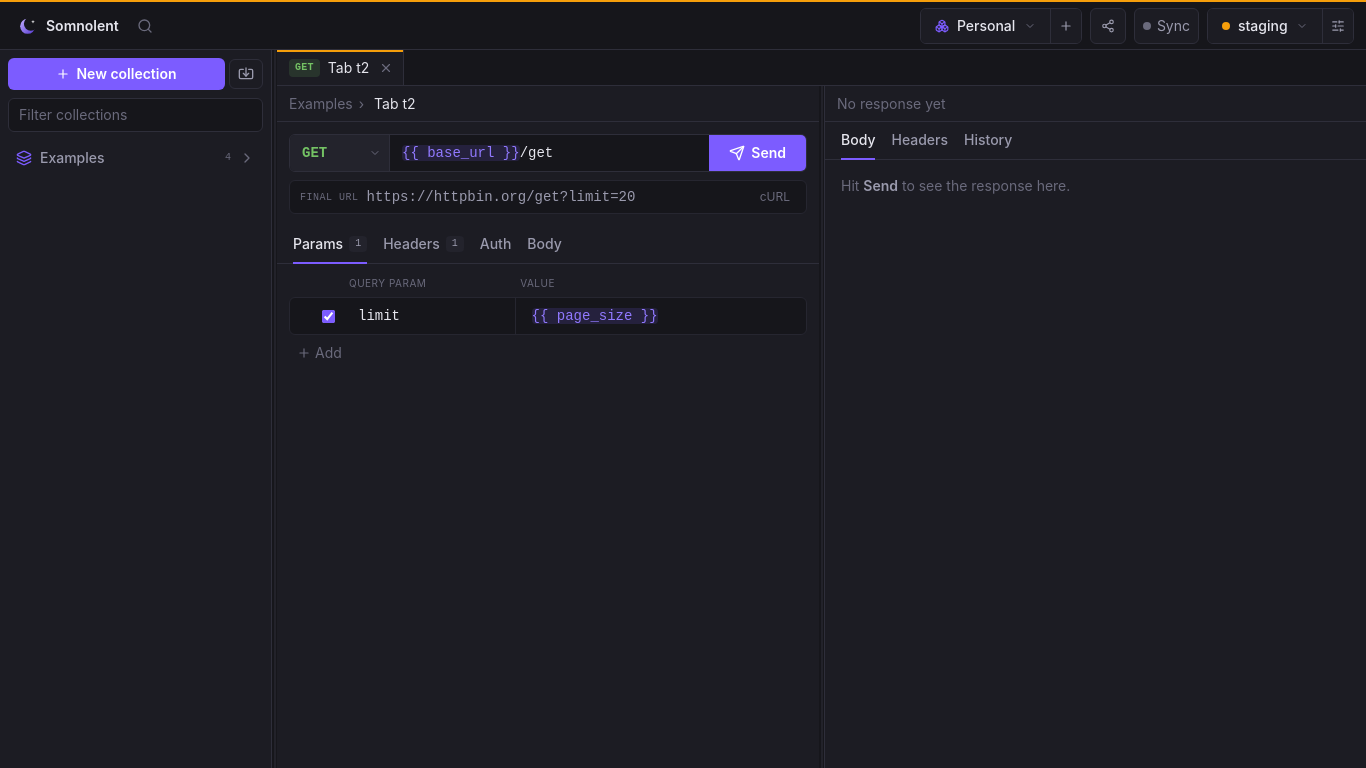
Test case: tab strip › with a single tab, the menu offers no "close others"
The image size is (1366, 768).
Right-click the tab "GET Tab t2" at (341, 68), box [277, 50, 404, 86]
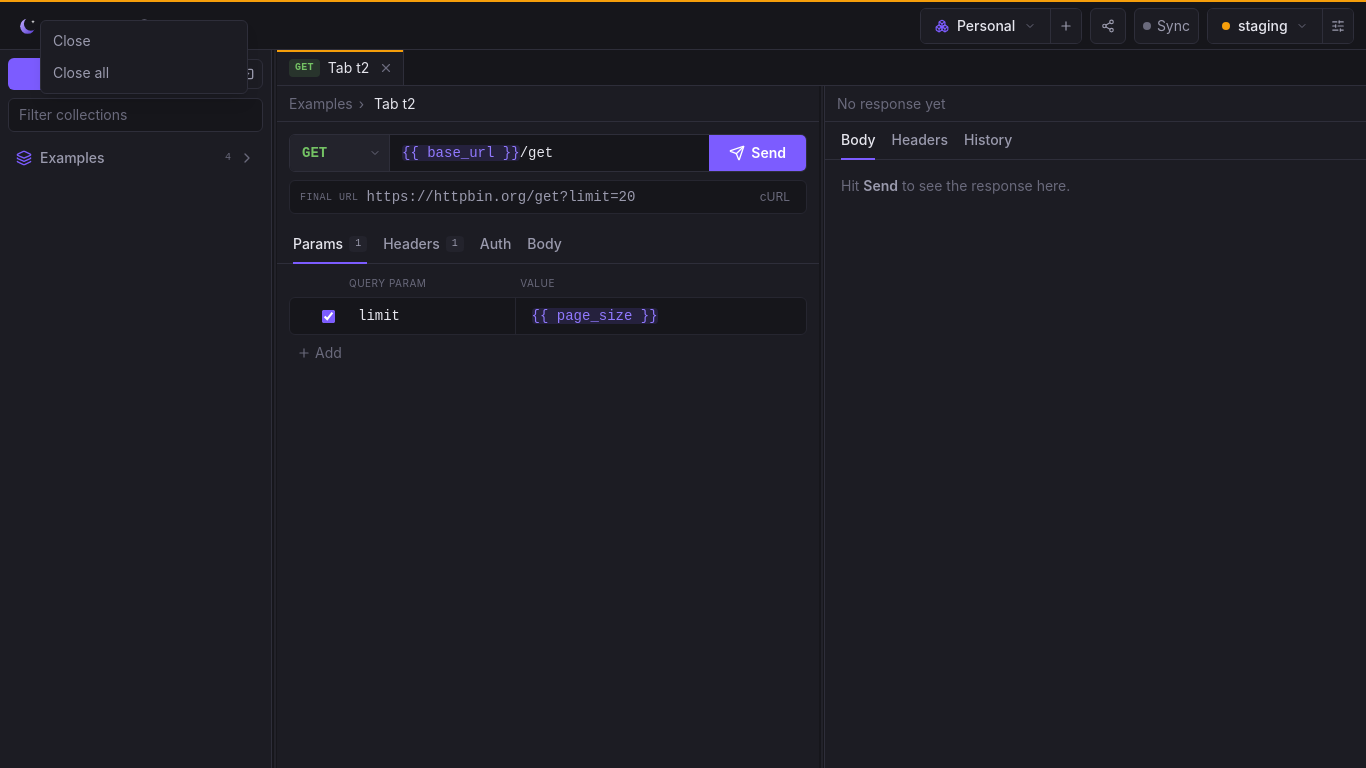
Result: the menu item "Close" is shown at [41, 25, 247, 57]
